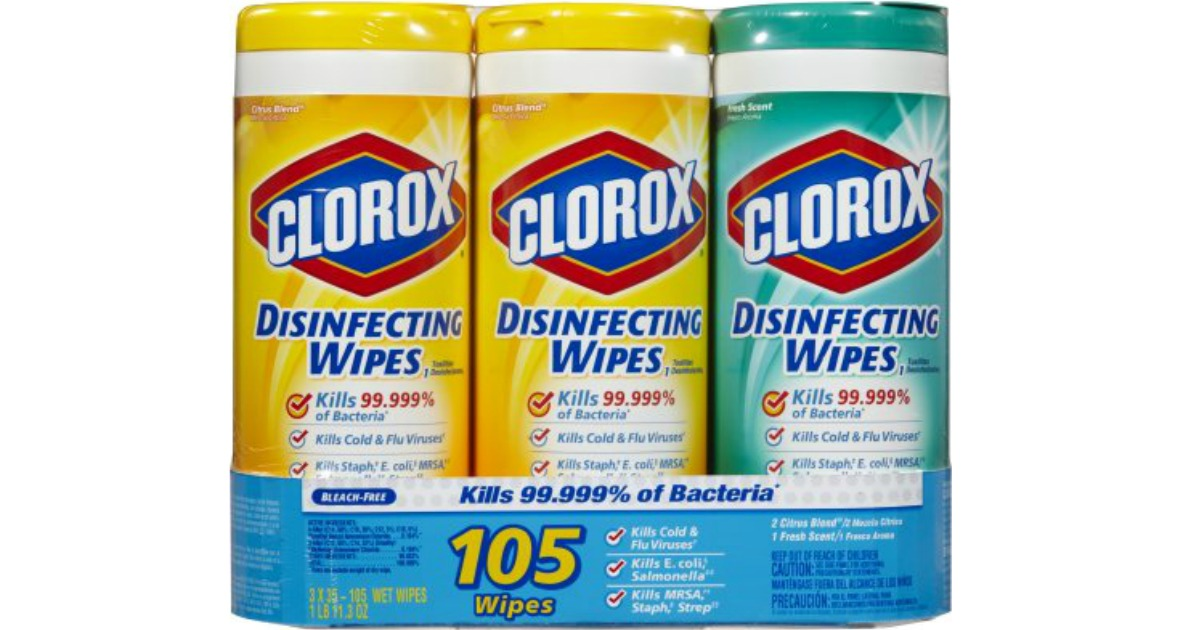Wipes: (705, 1, 962, 630), (465, 2, 718, 630), (223, 2, 471, 622)
